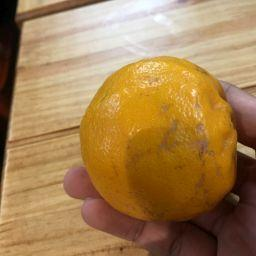Ripe: (81, 59, 241, 219)
